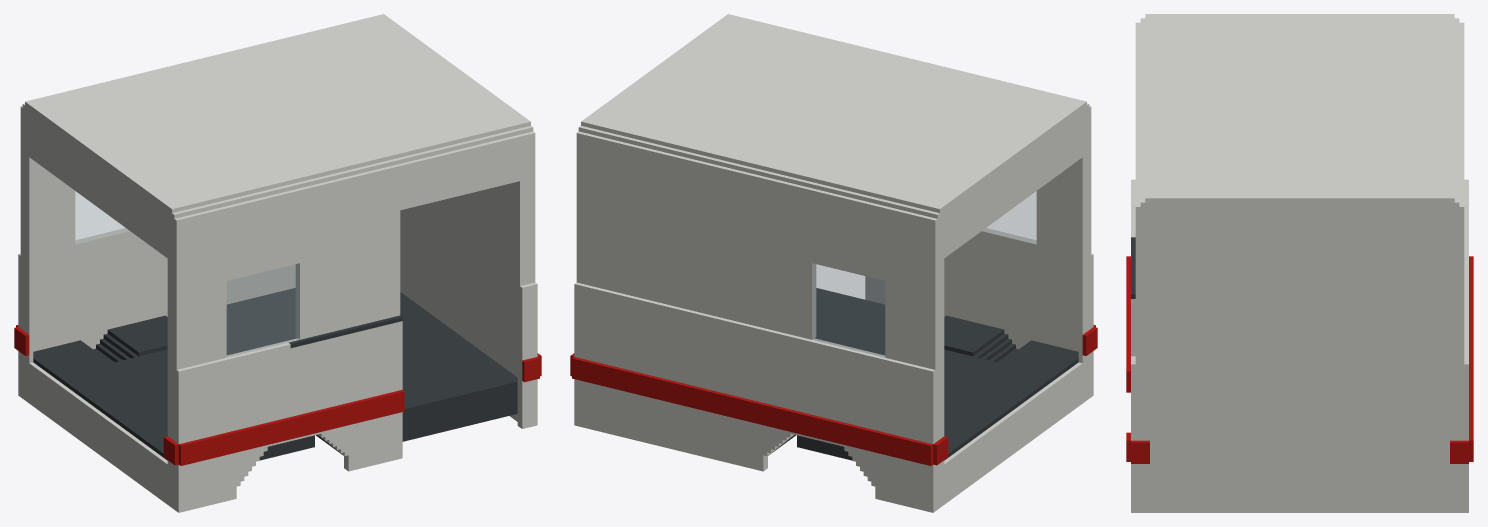
The model's file is ambulance_box.glb.
3 views of the same model, side by side, from view 1: azimuth 30°, elevation 25°; view 2: azimuth 150°, elevation 25°; view 3: azimuth 270°, elevation 25° (orthographic). The views are drawn at different scales.
Parts seen in each view (by area): view 1: body:compound; view 2: body:compound; view 3: body:compound.
Boxes of the visible parts, x1=… form: body:compound: x1=14, y1=14, x2=541, y2=512; body:compound: x1=570, y1=14, x2=1097, y2=512; body:compound: x1=1126, y1=14, x2=1473, y2=512.
Size of the model in its own units: 2.97 by 2.31 by 2.31.
